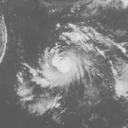cyclone: (35, 44, 88, 90)
